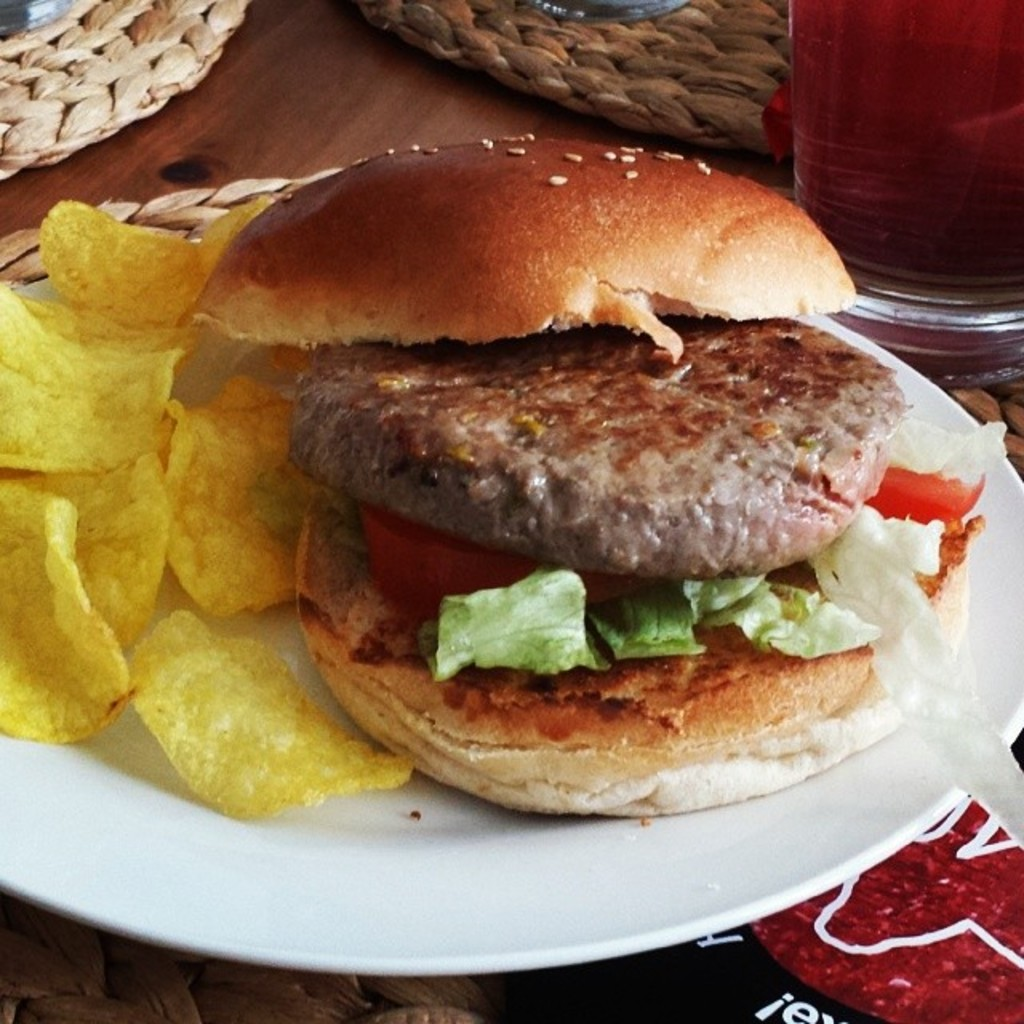Hamburger: (187, 132, 1022, 846)
